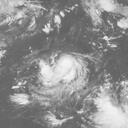cyclone: (37, 51, 90, 94)
